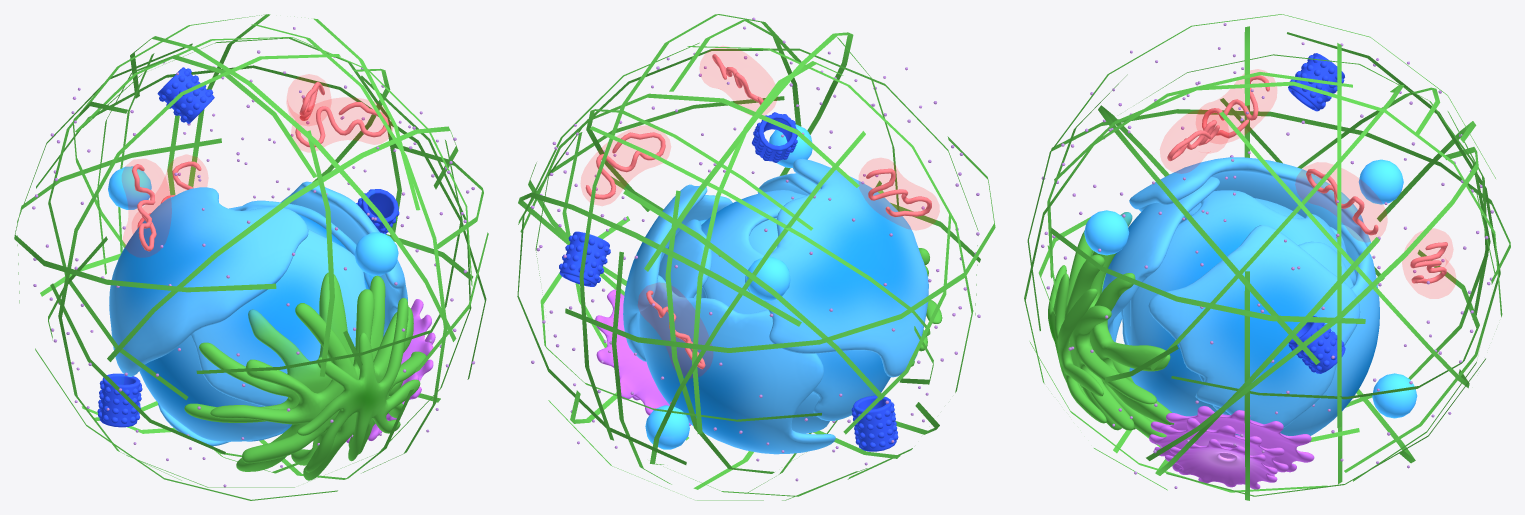
File: physics_-_organelle_building_codes.glb
3 views of the same model, side by side, from view 1: azimuth 30°, elevation 25°; view 2: azimuth 150°, elevation 25°; view 3: azimuth 270°, elevation 25° (orthographic). The views are drawn at different scales.
Visible parts, largest first — view 1: Object019_uw_0, Object022_op_0, Object021_op_0, Object020_op_0, Object015_op_0; view 2: Object019_uw_0, Object022_op_0, Object021_op_0, Object015_op_0, Object020_op_0; view 3: Object019_uw_0, Object015_op_0, Object021_op_0, Object020_op_0, Object022_op_0.
Boxes of the visible parts, left/top/right/bottom form: Object019_uw_0: left=14, top=14, right=488, bottom=500; Object022_op_0: left=122, top=159, right=171, bottom=256; Object021_op_0: left=291, top=98, right=392, bottom=151; Object020_op_0: left=165, top=155, right=207, bottom=194; Object015_op_0: left=287, top=74, right=330, bottom=119; Object019_uw_0: left=517, top=14, right=995, bottom=500; Object022_op_0: left=859, top=158, right=939, bottom=229; Object021_op_0: left=700, top=46, right=776, bottom=114; Object015_op_0: left=581, top=126, right=670, bottom=205; Object020_op_0: left=638, top=283, right=712, bottom=377; Object019_uw_0: left=1024, top=14, right=1510, bottom=500; Object015_op_0: left=1295, top=162, right=1386, bottom=241; Object021_op_0: left=1160, top=109, right=1228, bottom=173; Object020_op_0: left=1402, top=229, right=1455, bottom=298; Object022_op_0: left=1200, top=69, right=1276, bottom=142.
Size of what is drawn, in the model's own units: 4.31 by 4.25 by 4.29.
2 materials, 1 textured.
